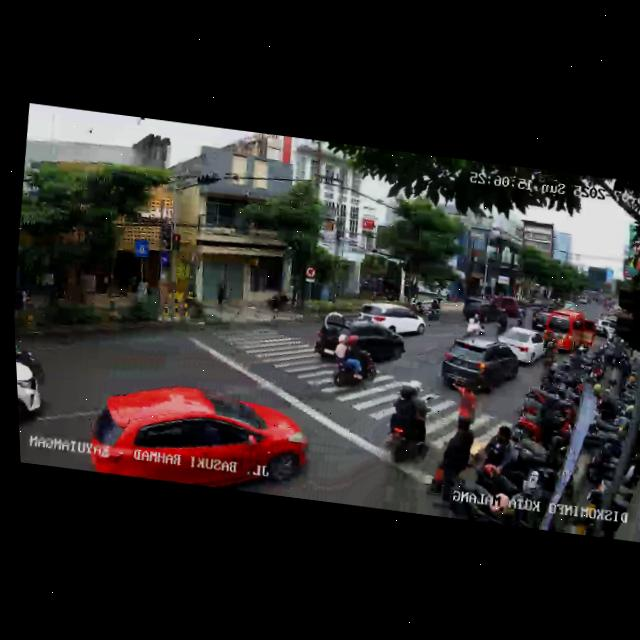car: (81, 375, 314, 499), (309, 309, 409, 374), (435, 332, 523, 398), (356, 298, 426, 342), (16, 354, 51, 433), (543, 309, 598, 357), (493, 324, 551, 366), (459, 294, 509, 337), (532, 309, 553, 332)
motorcycle: (378, 384, 436, 468), (324, 328, 380, 398), (462, 307, 488, 338)
person: (426, 410, 480, 506), (445, 372, 479, 437)
